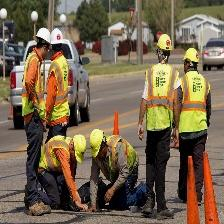Person: (141, 32, 180, 221), (21, 23, 53, 215), (177, 44, 212, 201), (90, 125, 139, 213), (38, 128, 88, 213), (43, 26, 73, 142)
helmet: (88, 129, 105, 163), (73, 135, 86, 165), (156, 32, 173, 51), (35, 27, 51, 44), (183, 47, 199, 63), (51, 28, 63, 46)
no-vest: (106, 140, 136, 180)
vest: (144, 63, 175, 135), (180, 70, 212, 137), (51, 55, 70, 125), (23, 54, 43, 119), (40, 135, 72, 170)
